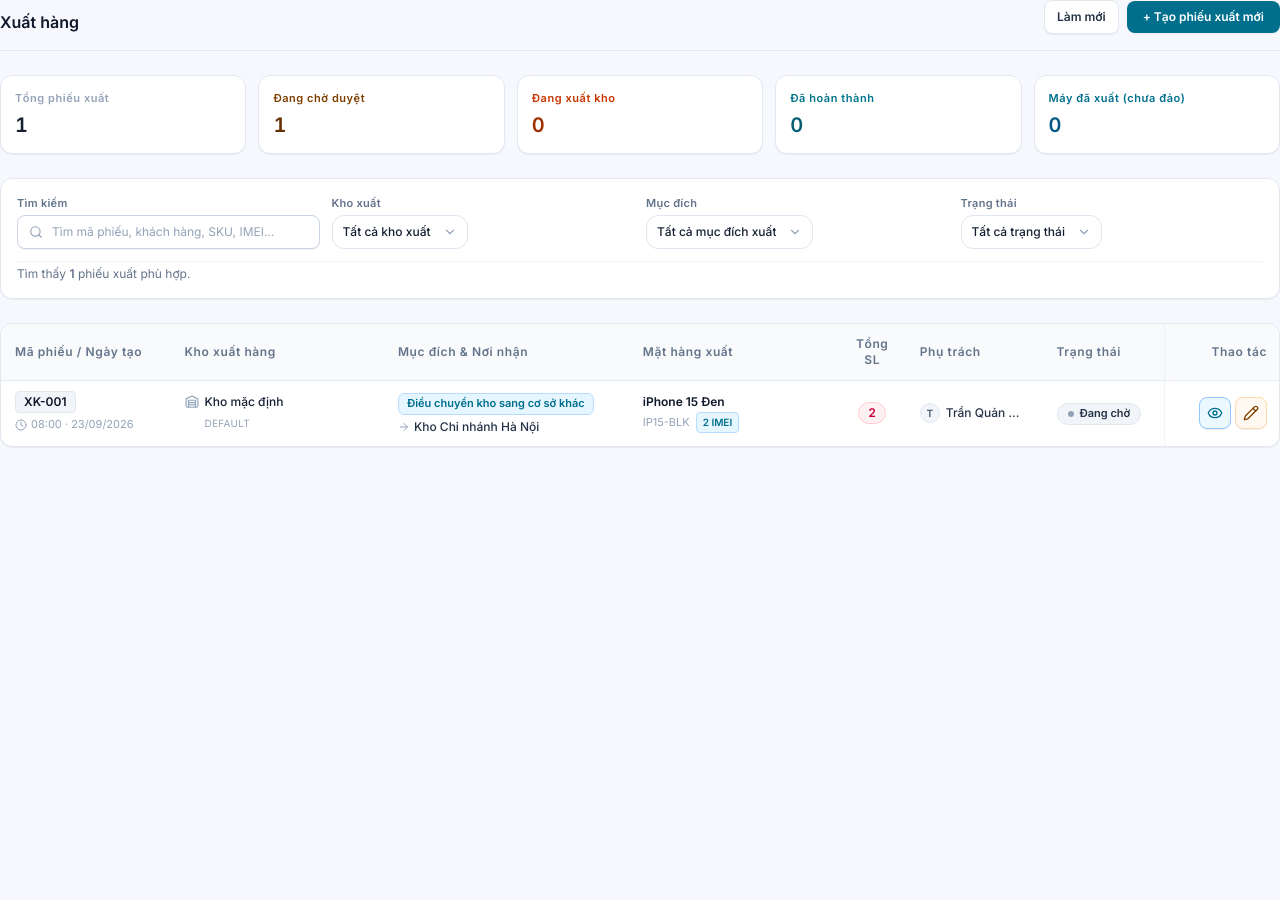
Test: OutboundSection › mở chi tiết phiếu xuất và xem danh sách IMEI khi nhấn 'Chi tiết'
Click the button named "Chi tiết".
click(1215, 413)  # box [1199, 397, 1231, 429]
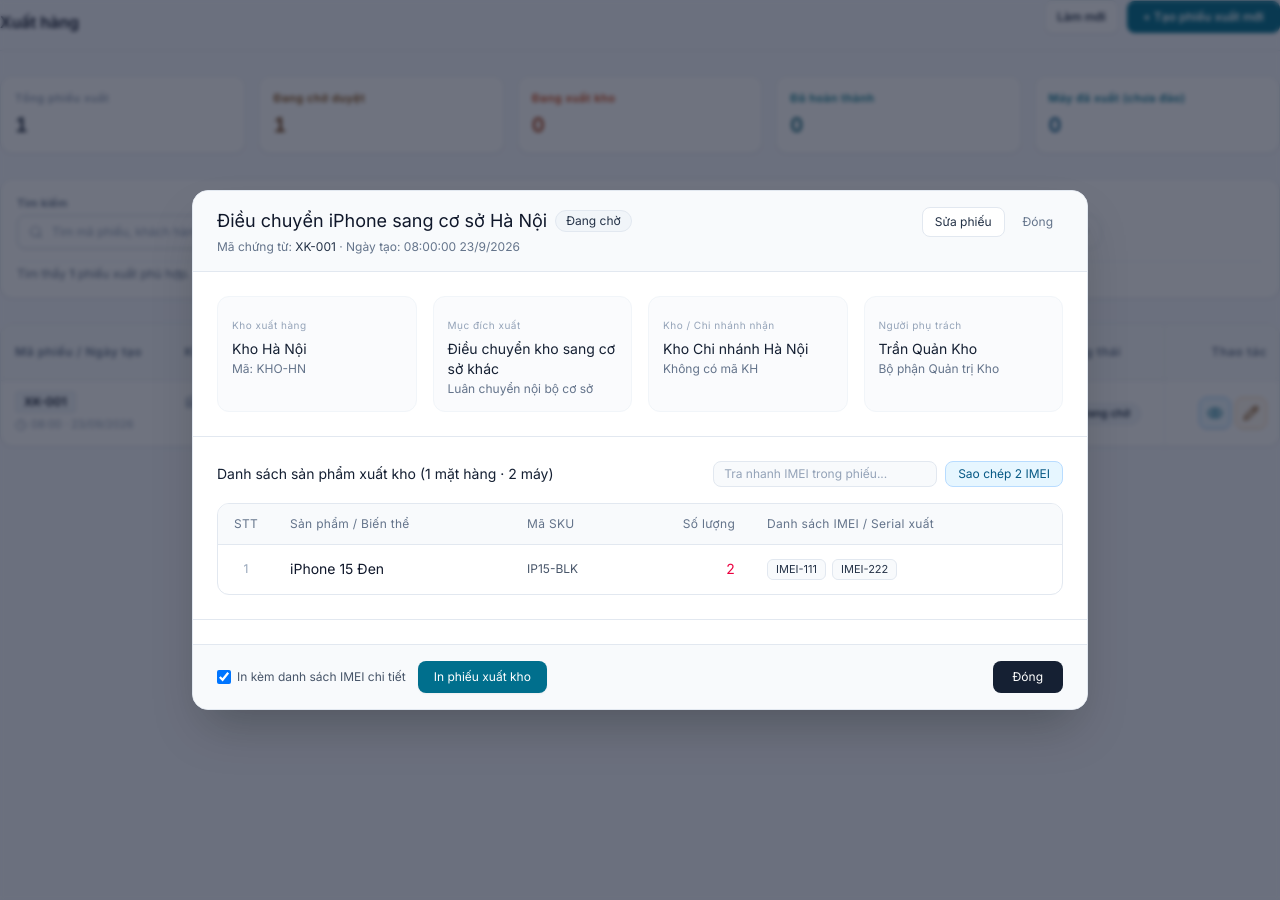
Result: the heading "Điều chuyển iPhone sang cơ sở Hà Nội" is shown at [217, 207, 547, 235]
Result: the text "IMEI-111" is shown at [776, 562, 817, 577]
Result: the text "IMEI-222" is shown at [841, 562, 888, 577]
